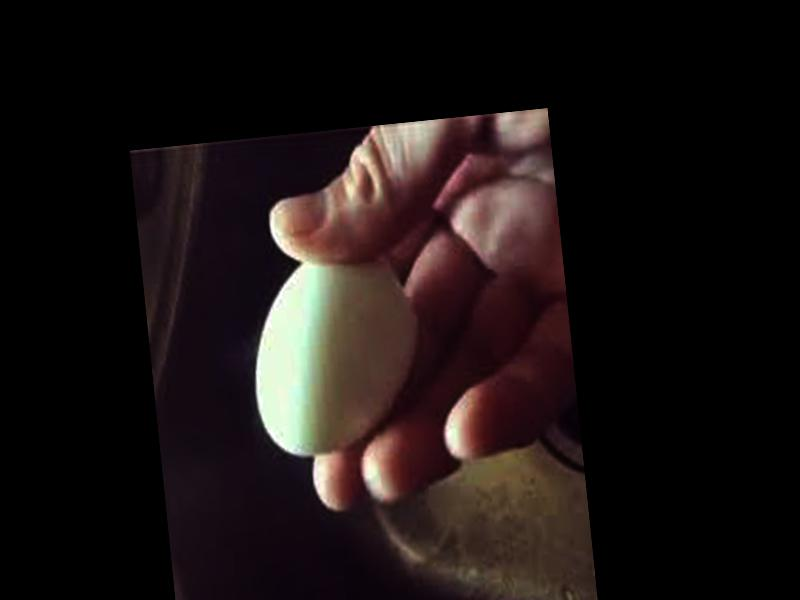Eggs: (242, 248, 424, 457)
